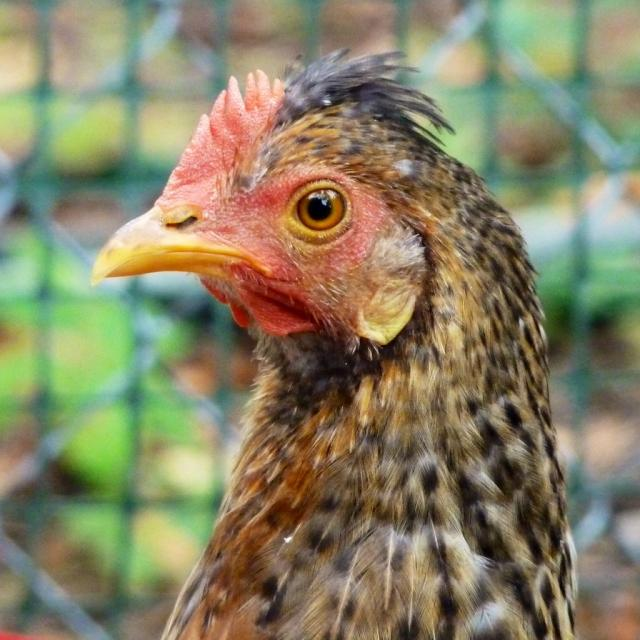Chicken: (72, 50, 596, 636)
